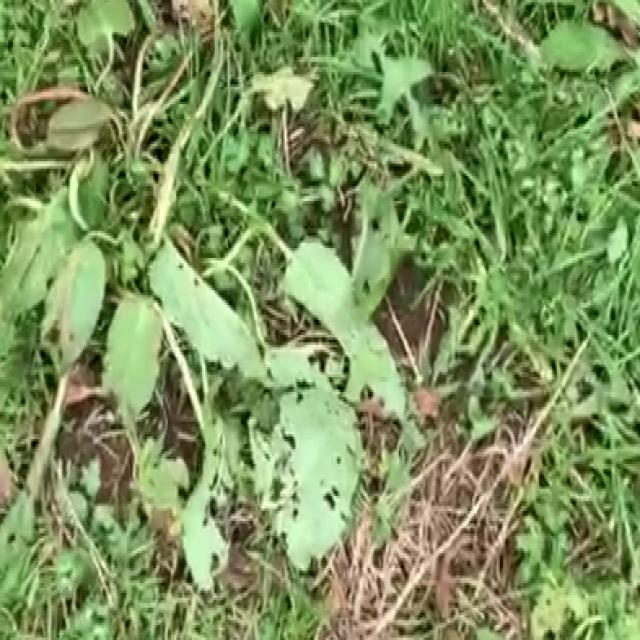organic waste: (0, 0, 458, 640)
